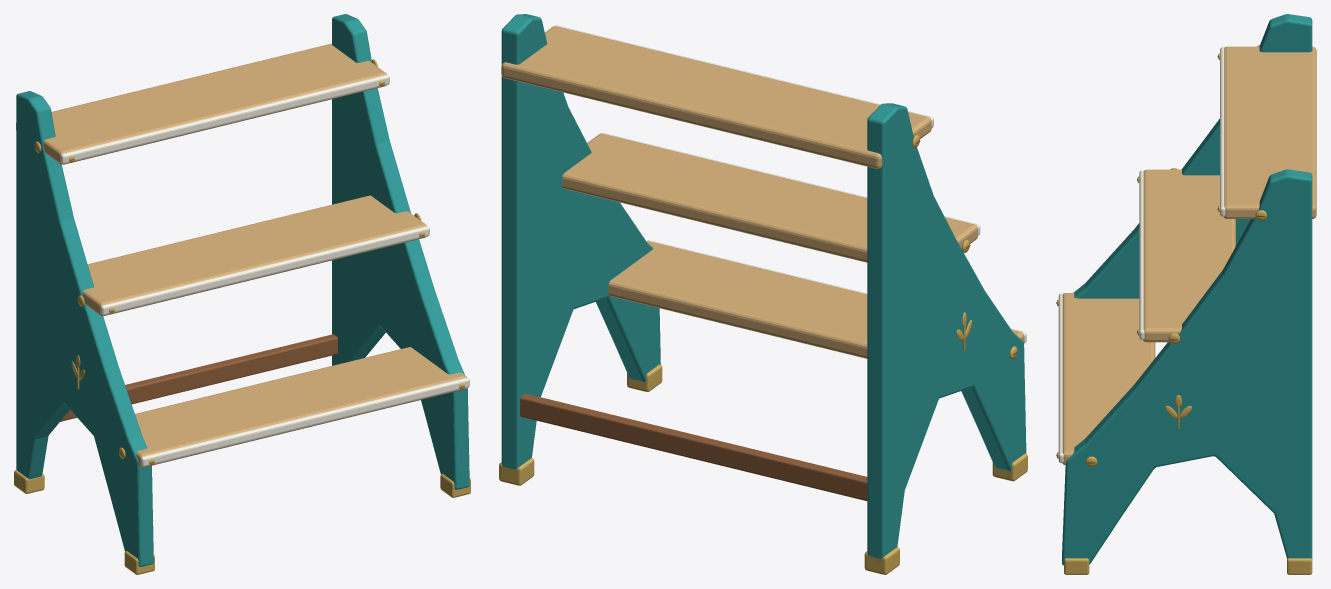
The model's file is stand_classic.glb.
3 views of the same model, side by side, from view 1: azimuth 30°, elevation 25°; view 2: azimuth 150°, elevation 25°; view 3: azimuth 270°, elevation 25° (orthographic). The views are drawn at different scales.
Visible parts, largest first — view 1: Solid_sculpted_side_panel, Solid_sculpted_side_panel.001, Flat_display_tray.001, Flat_display_tray.002, Flat_display_tray, Rear_stability_brace, Cream_tray_edge.001, Cream_tray_edge, Cream_tray_edge.002; view 2: Solid_sculpted_side_panel, Solid_sculpted_side_panel.001, Flat_display_tray.002, Flat_display_tray.001, Flat_display_tray, Rear_stability_brace; view 3: Solid_sculpted_side_panel.001, Flat_display_tray.002, Flat_display_tray.001, Flat_display_tray, Solid_sculpted_side_panel, Cream_tray_edge.001, Cream_tray_edge.002, Cream_tray_edge, Brass_capped_foot.002, Brass_capped_foot.003.
Part boxes in pixels (x1=…): Solid_sculpted_side_panel: x1=16, y1=91, x2=153, y2=566; Solid_sculpted_side_panel.001: x1=332, y1=14, x2=469, y2=489; Flat_display_tray.001: x1=82, y1=195, x2=426, y2=316; Flat_display_tray.002: x1=16, y1=43, x2=386, y2=164; Flat_display_tray: x1=135, y1=347, x2=467, y2=467; Rear_stability_brace: x1=60, y1=334, x2=337, y2=421; Cream_tray_edge.001: x1=100, y1=226, x2=429, y2=315; Cream_tray_edge: x1=140, y1=377, x2=469, y2=466; Cream_tray_edge.002: x1=60, y1=74, x2=389, y2=163; Solid_sculpted_side_panel: x1=867, y1=103, x2=1026, y2=561; Solid_sculpted_side_panel.001: x1=501, y1=14, x2=660, y2=470; Flat_display_tray.002: x1=501, y1=26, x2=931, y2=168; Flat_display_tray.001: x1=562, y1=133, x2=977, y2=262; Flat_display_tray: x1=608, y1=241, x2=1024, y2=358; Rear_stability_brace: x1=520, y1=393, x2=867, y2=500; Solid_sculpted_side_panel.001: x1=1062, y1=169, x2=1312, y2=565; Flat_display_tray.002: x1=1224, y1=46, x2=1316, y2=218; Flat_display_tray.001: x1=1143, y1=169, x2=1235, y2=342; Flat_display_tray: x1=1062, y1=293, x2=1155, y2=465; Solid_sculpted_side_panel: x1=1073, y1=14, x2=1312, y2=298; Cream_tray_edge.001: x1=1139, y1=170, x2=1144, y2=339; Cream_tray_edge.002: x1=1220, y1=47, x2=1225, y2=216; Cream_tray_edge: x1=1058, y1=293, x2=1063, y2=462; Brass_capped_foot.002: x1=1287, y1=558, x2=1312, y2=574; Brass_capped_foot.003: x1=1064, y1=558, x2=1089, y2=574.
Size of the model in its own units: 0.9346 by 1.04 by 0.6126.
